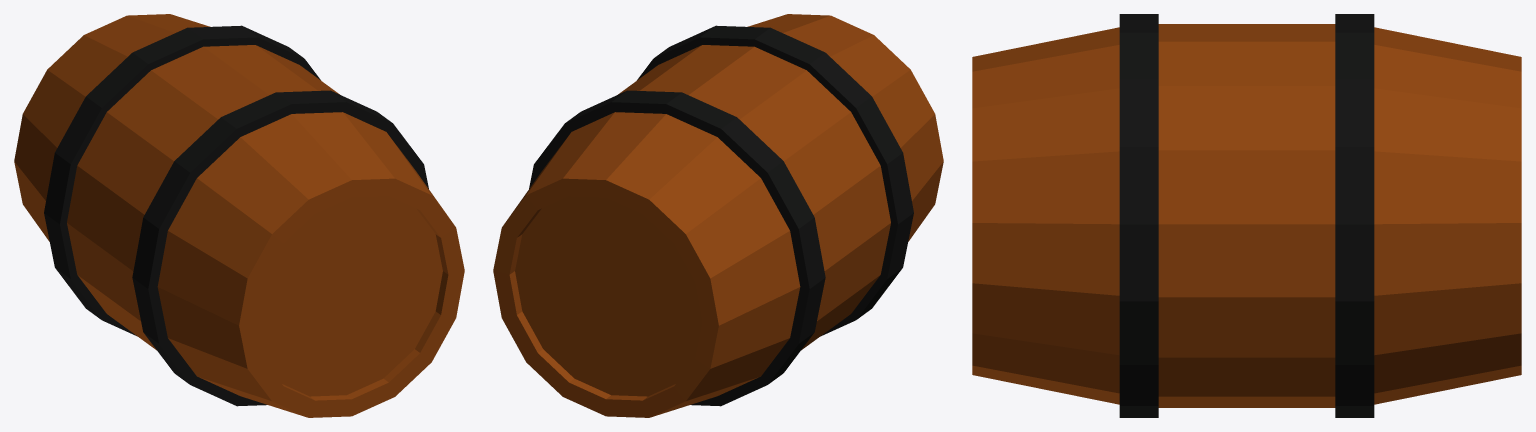
Rendered from barrel.fbx.
3 renders of one model, left to right at view 1: azimuth 30°, elevation 25°; view 2: azimuth 150°, elevation 25°; view 3: azimuth 270°, elevation 25°, orthographic. The views are drawn at different scales.
Parts seen in each view (by area): view 1: Cylinder; view 2: Cylinder; view 3: Cylinder.
Part boxes in pixels (box(x1,y1,x2,y2)): Cylinder: box(14, 14, 464, 417); Cylinder: box(493, 14, 943, 417); Cylinder: box(972, 14, 1521, 417).
Size of the model in its own units: 194 by 194 by 263.
